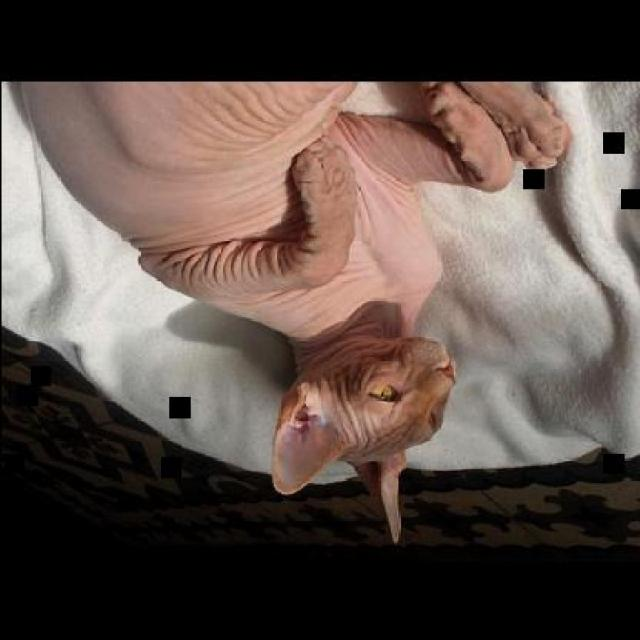unauthorized: (15, 80, 572, 545)
